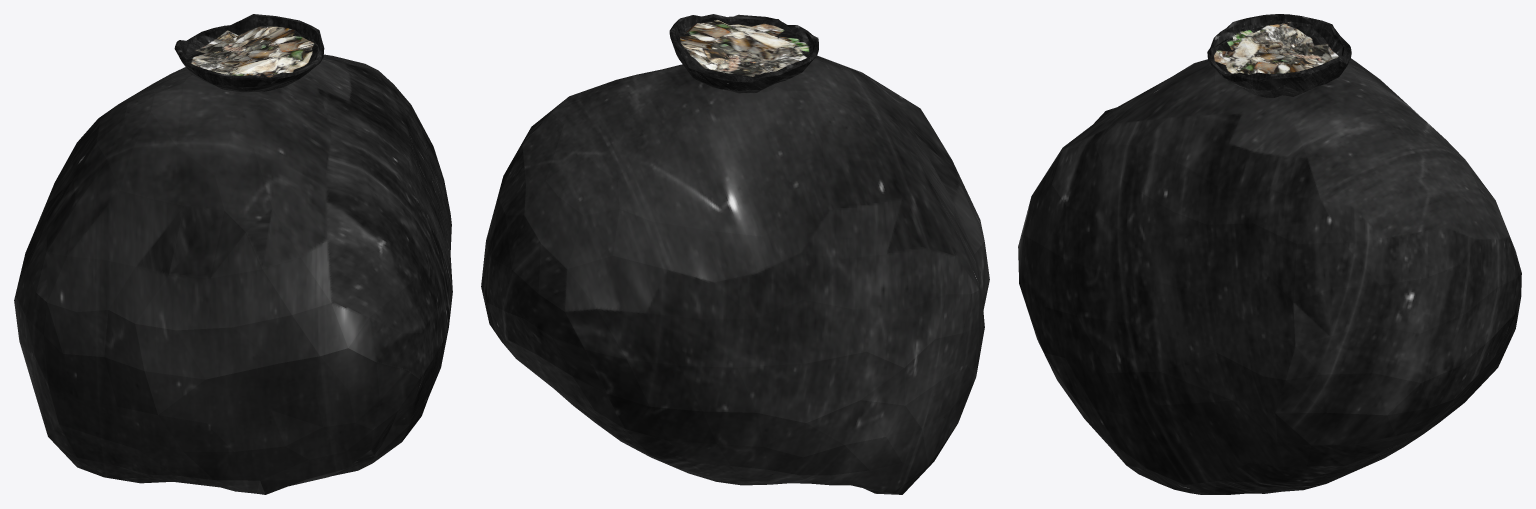
Rendered from TrashBag.fbx.
3 renders of one model, left to right at view 1: azimuth 30°, elevation 25°; view 2: azimuth 150°, elevation 25°; view 3: azimuth 270°, elevation 25°, orthographic. The views are drawn at different scales.
Parts seen in each view (by area): view 1: BagHead.002; view 2: BagHead.002; view 3: BagHead.002.
Part boxes in pixels (left/top/right/bottom): BagHead.002: left=14, top=14, right=452, bottom=494; BagHead.002: left=481, top=14, right=989, bottom=494; BagHead.002: left=1018, top=14, right=1521, bottom=494.
Bounding box in the file's own units: 194 × 196 × 181.
